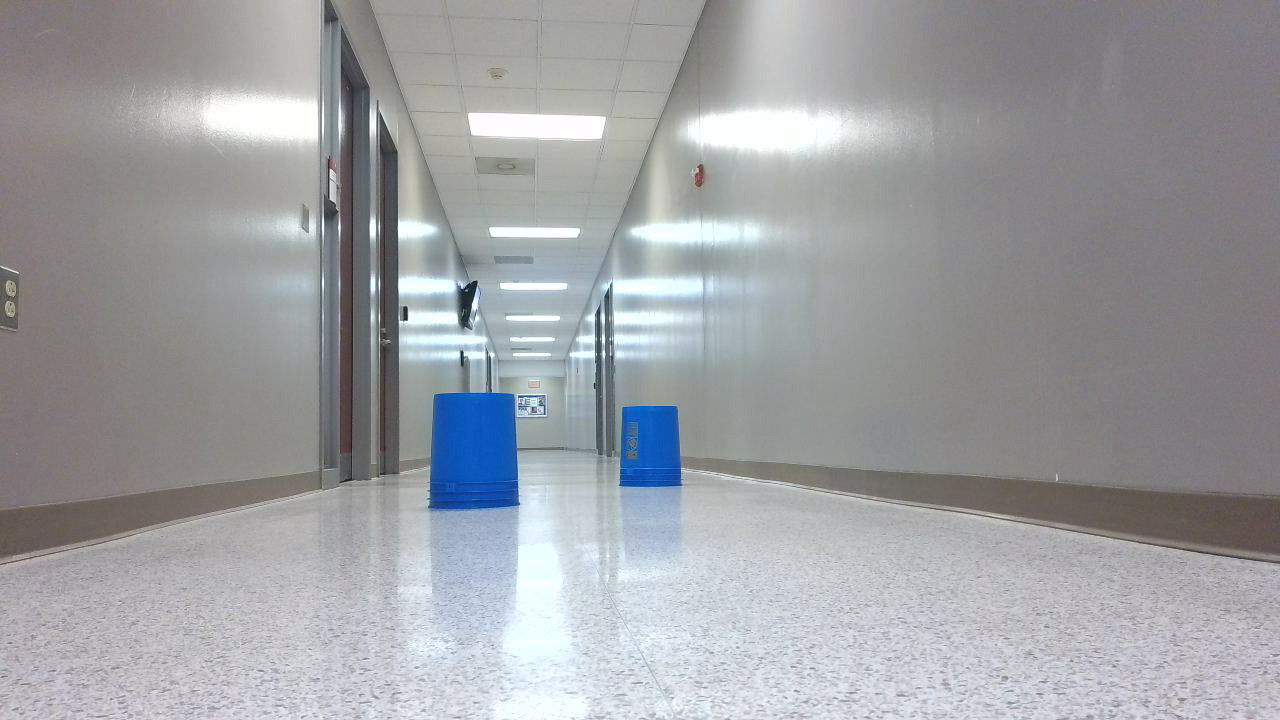blue_bucket: (434, 397, 526, 515), (622, 409, 693, 493)
